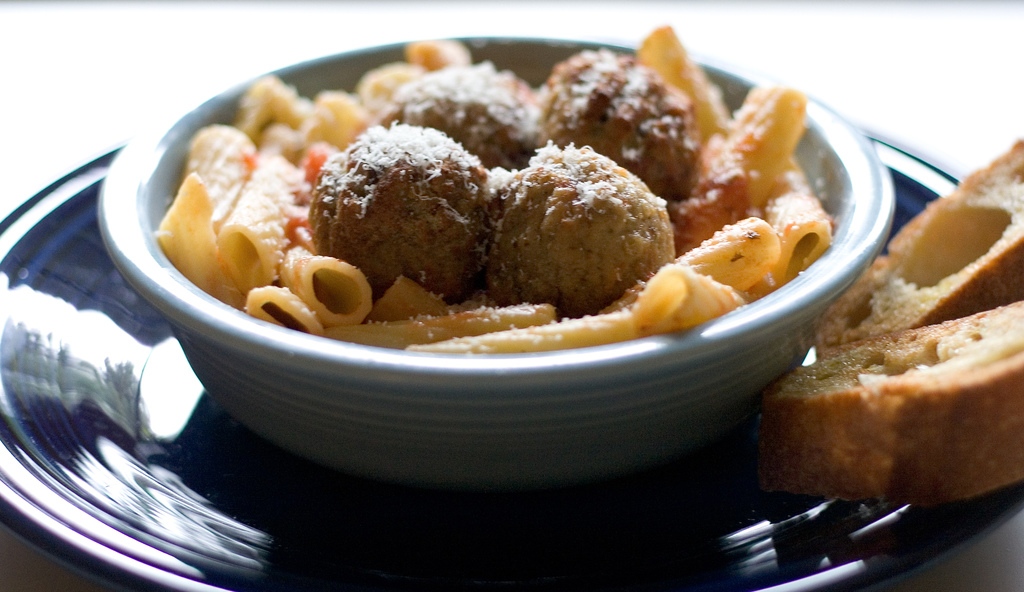meatballs: (328, 62, 689, 293)
plain spaghetti: (174, 125, 310, 304)
slice of bread: (766, 313, 1024, 490), (815, 133, 1024, 345)
